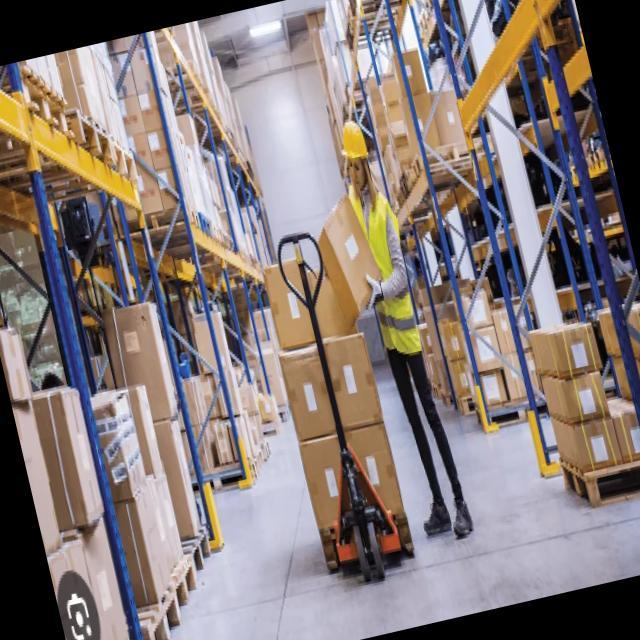boots: (414, 480, 479, 547)
helmet: (332, 112, 379, 195)
vest: (338, 172, 431, 368)
